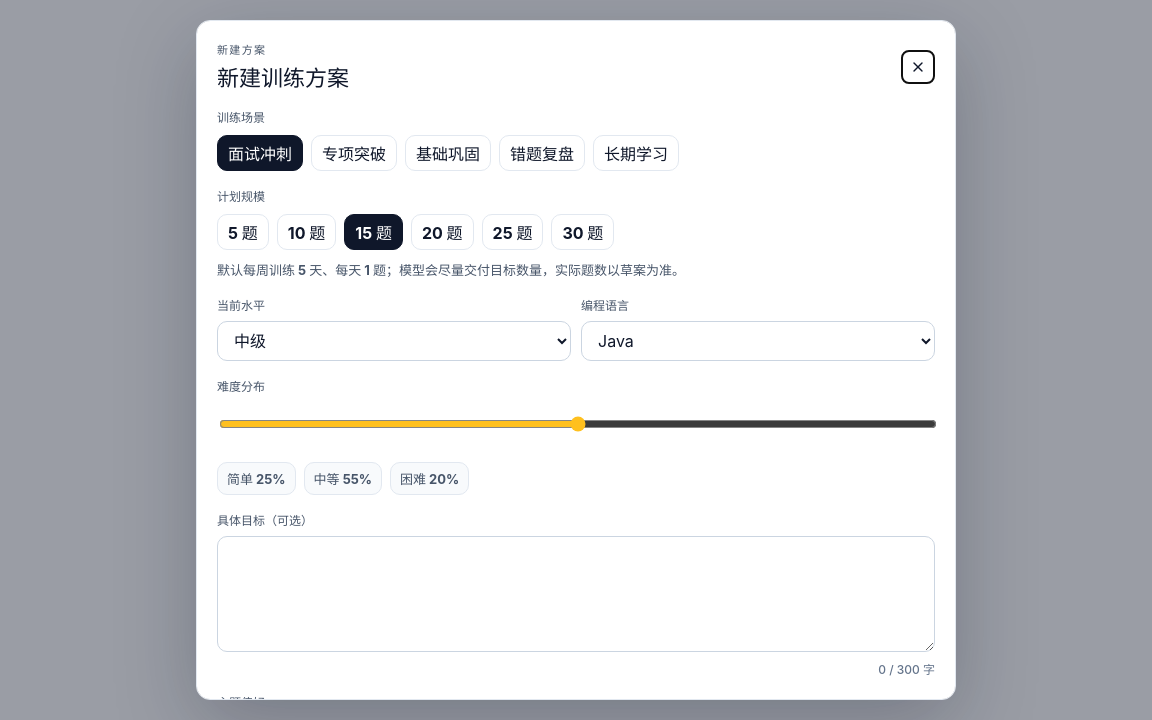
LearningPlanCreateModal › requires a topic for topic breakthrough scenario
Click the button "专项突破" at (354, 153), box top-left (311, 135), bottom-right (397, 171)
(page scrolled)
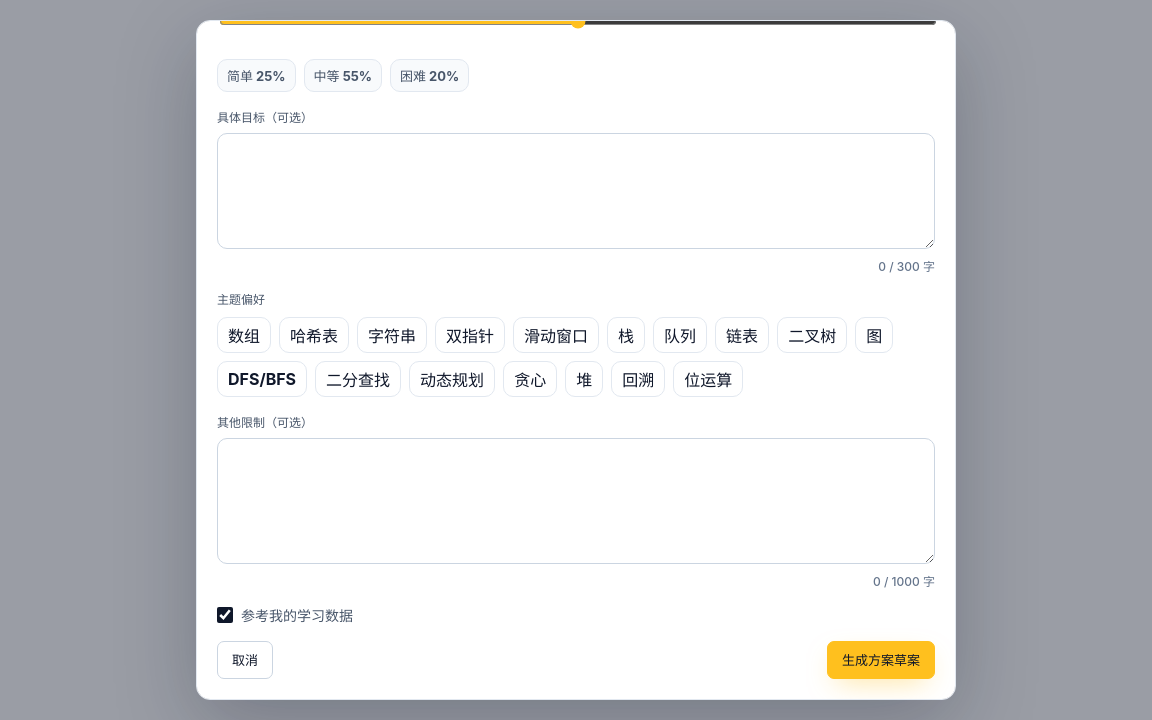
Click the button "生成方案草案" at (881, 660), box top-left (827, 641), bottom-right (935, 679)
(page scrolled)
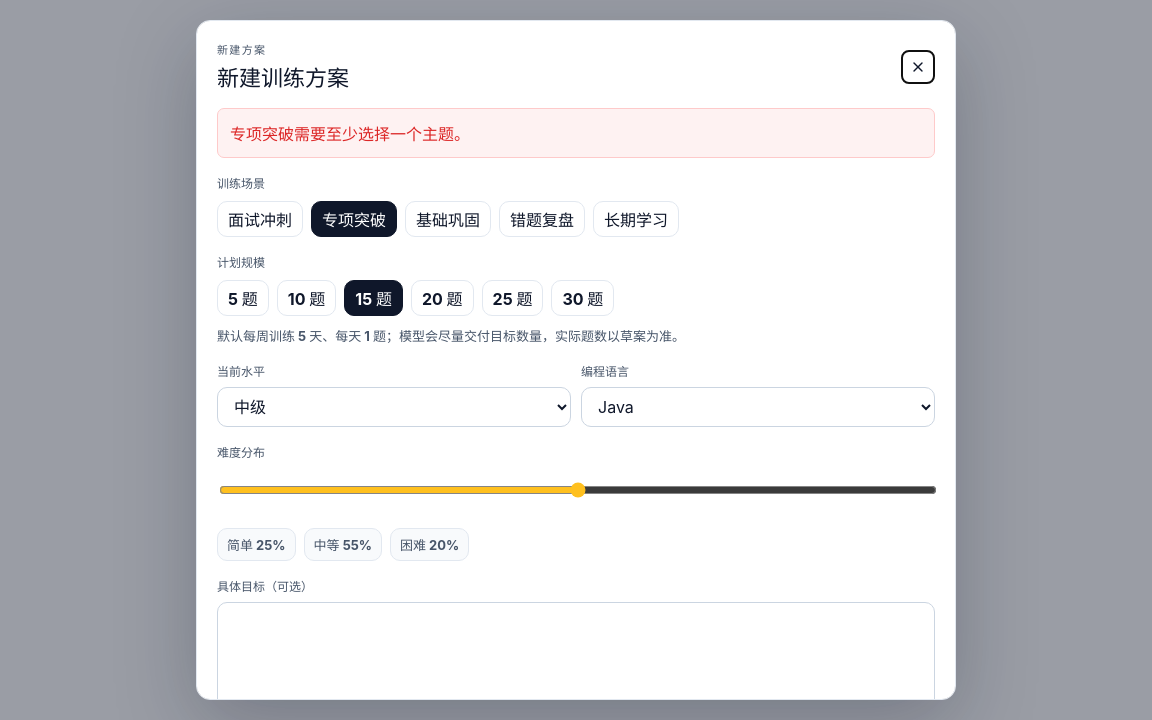
Result: the text "专项突破需要至少选择一个主题。" is shown at top-left (217, 108), bottom-right (935, 158)
Result: the message reads "专项突破需要至少选择一个主题。" at top-left (230, 124), bottom-right (470, 144)
